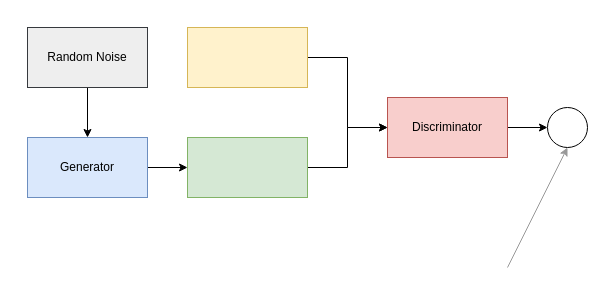
The diagram is 614 pixels wide and 294 high, and some of its shapes have lost their labels. Each missing label, with the centre of its shape:
New Image: (x=247, y=167)
Real Image: (x=247, y=57)
